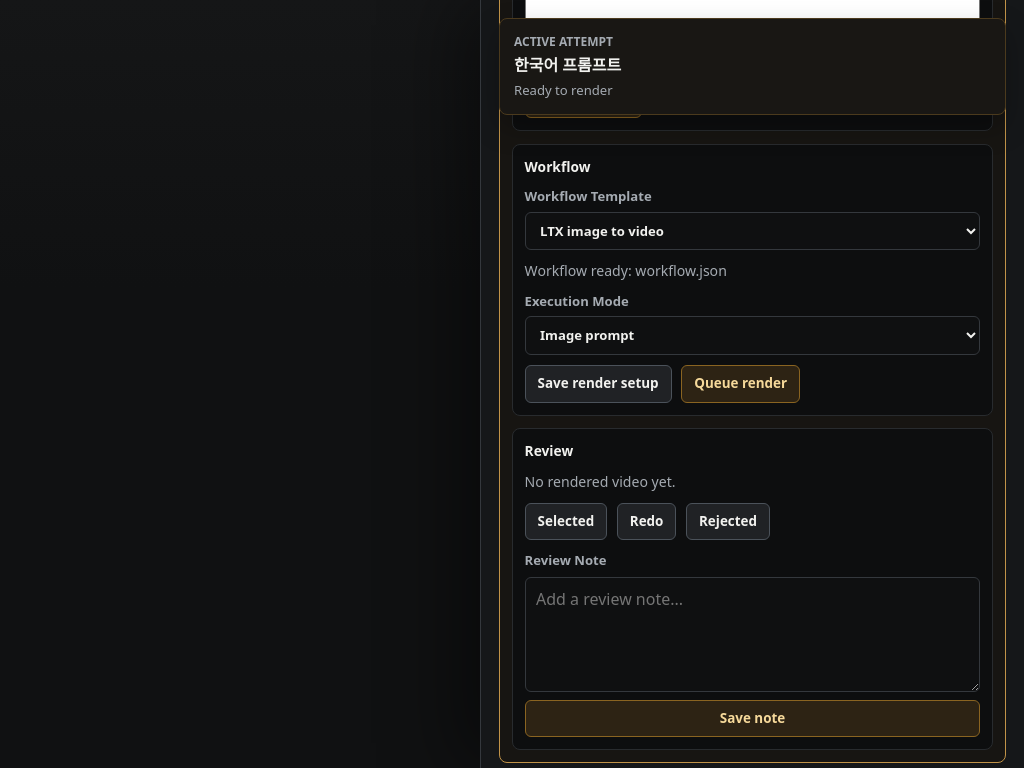
ShotDrawer asset attempts › shows API detail when render queue validation fails
(page scrolled)
Step 1. Click the button with aria-label "Queue render for attempt attempt-1" → click(741, 384), box [681,365,800,403]
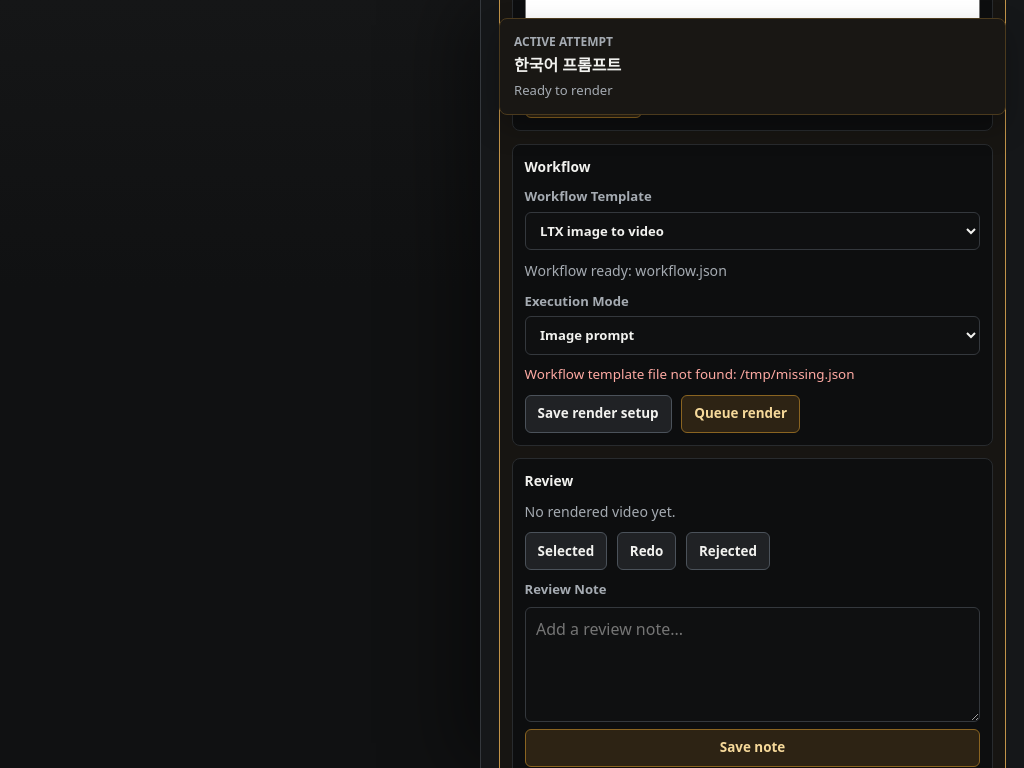
Check: the text "Workflow template file not found: /tmp/missing.json" is shown, box [525,365,855,383]
